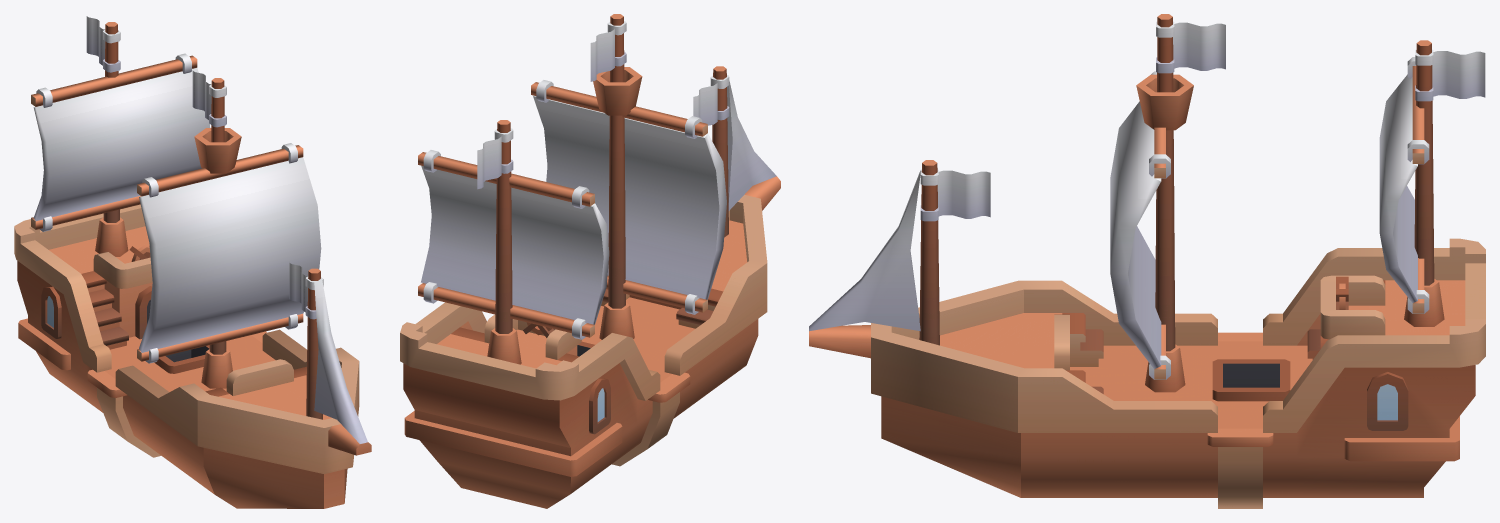
The model's file is ship-large-transformed.glb.
The picture shows the model from 3 angles, left to right: view 1: azimuth 30°, elevation 25°; view 2: azimuth 150°, elevation 25°; view 3: azimuth 270°, elevation 25°; orthographic projection. The views are drawn at different scales.
Parts seen in each view (by area): view 1: ship-large, sail-a, sail-b, flag-b, flag-c, flag-a; view 2: ship-large, sail-a, sail-b, flag-b, flag-c, flag-a; view 3: ship-large, sail-a, sail-b, flag-c, flag-a, flag-b.
Boxes of the visible parts, x1,y1,x2,y2 form: ship-large: [14, 22, 371, 508]; sail-a: [137, 143, 321, 363]; sail-b: [31, 53, 210, 231]; flag-b: [192, 70, 226, 127]; flag-c: [86, 16, 120, 72]; flag-a: [289, 262, 323, 319]; ship-large: [400, 14, 780, 508]; sail-a: [531, 80, 726, 314]; sail-b: [418, 150, 609, 339]; flag-b: [590, 21, 626, 81]; flag-c: [477, 128, 513, 189]; flag-a: [693, 75, 729, 125]; ship-large: [809, 14, 1485, 508]; sail-a: [1110, 71, 1170, 379]; sail-b: [1379, 57, 1429, 313]; flag-c: [1415, 49, 1485, 101]; flag-a: [920, 169, 990, 221]; flag-b: [1156, 21, 1225, 73].
Size of the model in its own units: 4.8 by 9.96 by 13.1.
Materials: 1 (1 with a texture image).
